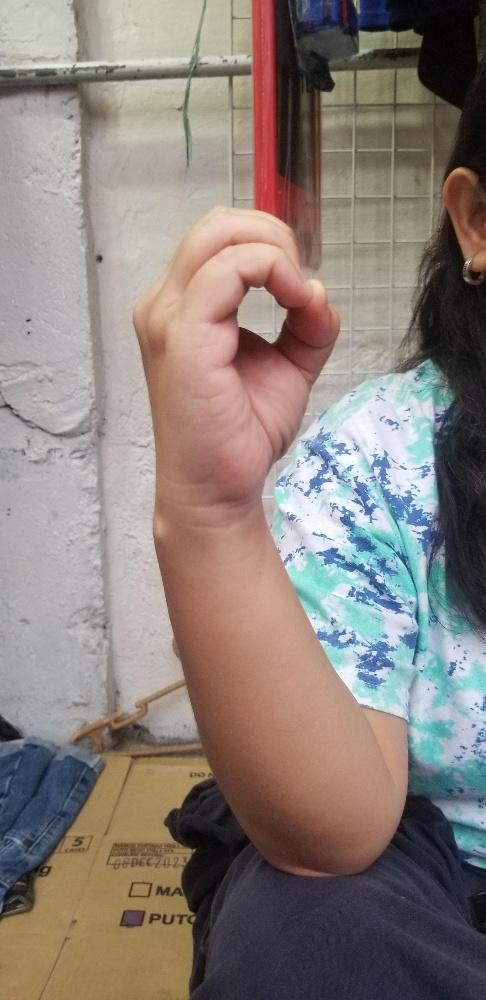o: (131, 205, 341, 496)
